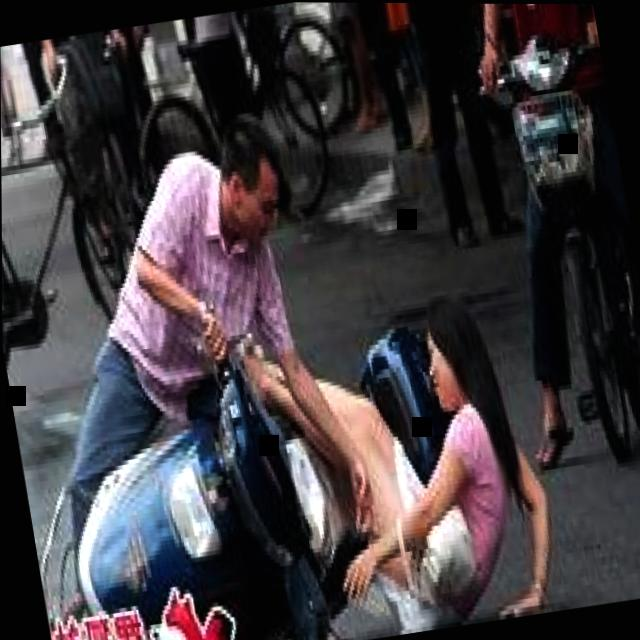Fall-Detected: (193, 258, 554, 640)
